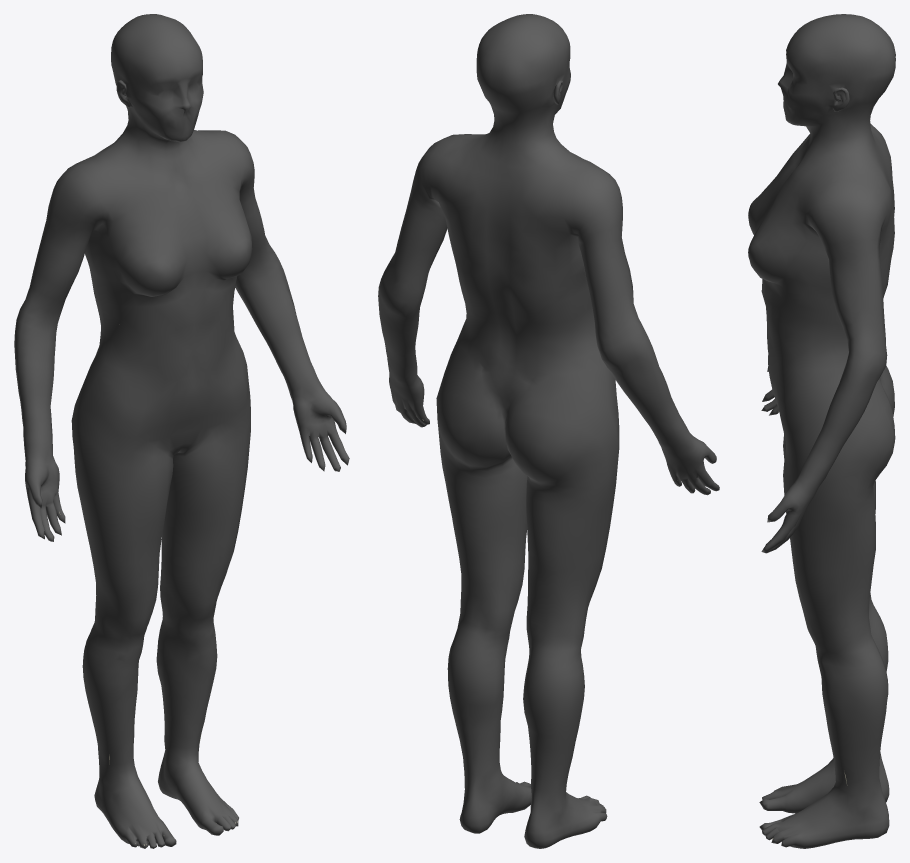
Rendered from nervous_system.glb.
The picture shows the model from 3 angles, left to right: view 1: azimuth 30°, elevation 25°; view 2: azimuth 150°, elevation 25°; view 3: azimuth 270°, elevation 25°; orthographic projection.
Parts seen in each view (by area): view 1: female_skin_1; view 2: female_skin_1; view 3: female_skin_1.
Part boxes in pixels (x1=…): female_skin_1: x1=14, y1=14, x2=349, y2=848; female_skin_1: x1=378, y1=14, x2=719, y2=848; female_skin_1: x1=748, y1=14, x2=895, y2=848.
Bounding box in the file's own units: 0.7371 × 1.8 × 0.2986.
2 materials, 1 textured.
